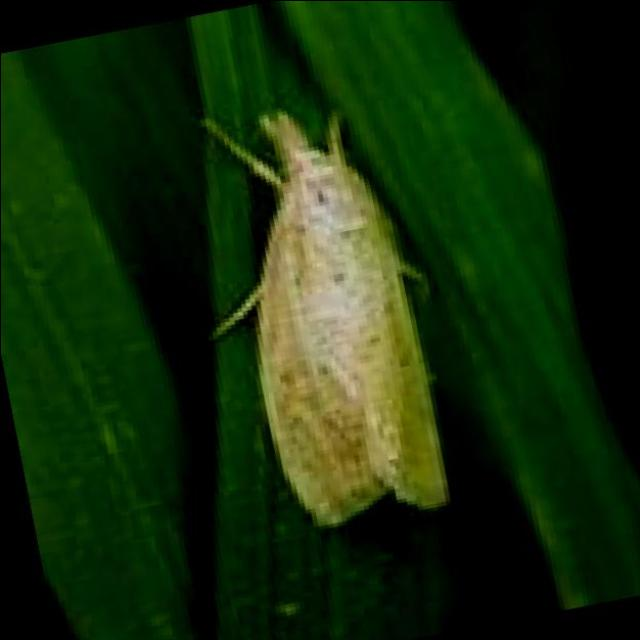stem borer: (200, 111, 447, 524)
